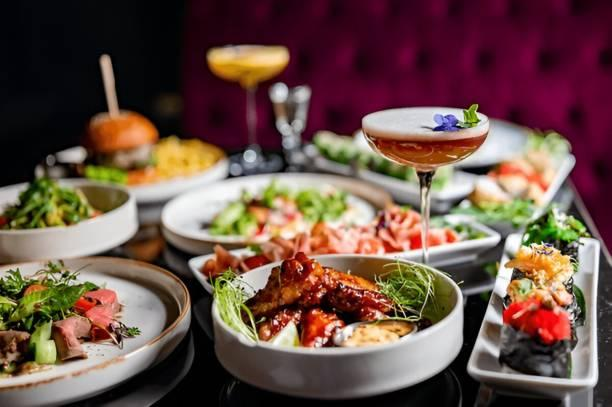Braised Crucian Carp: (210, 254, 458, 399), (466, 234, 600, 396), (163, 172, 389, 254)
